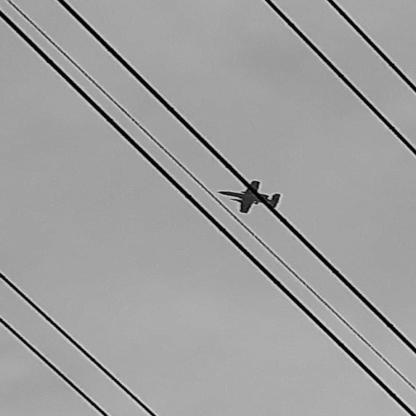A10: (218, 182, 282, 215)
